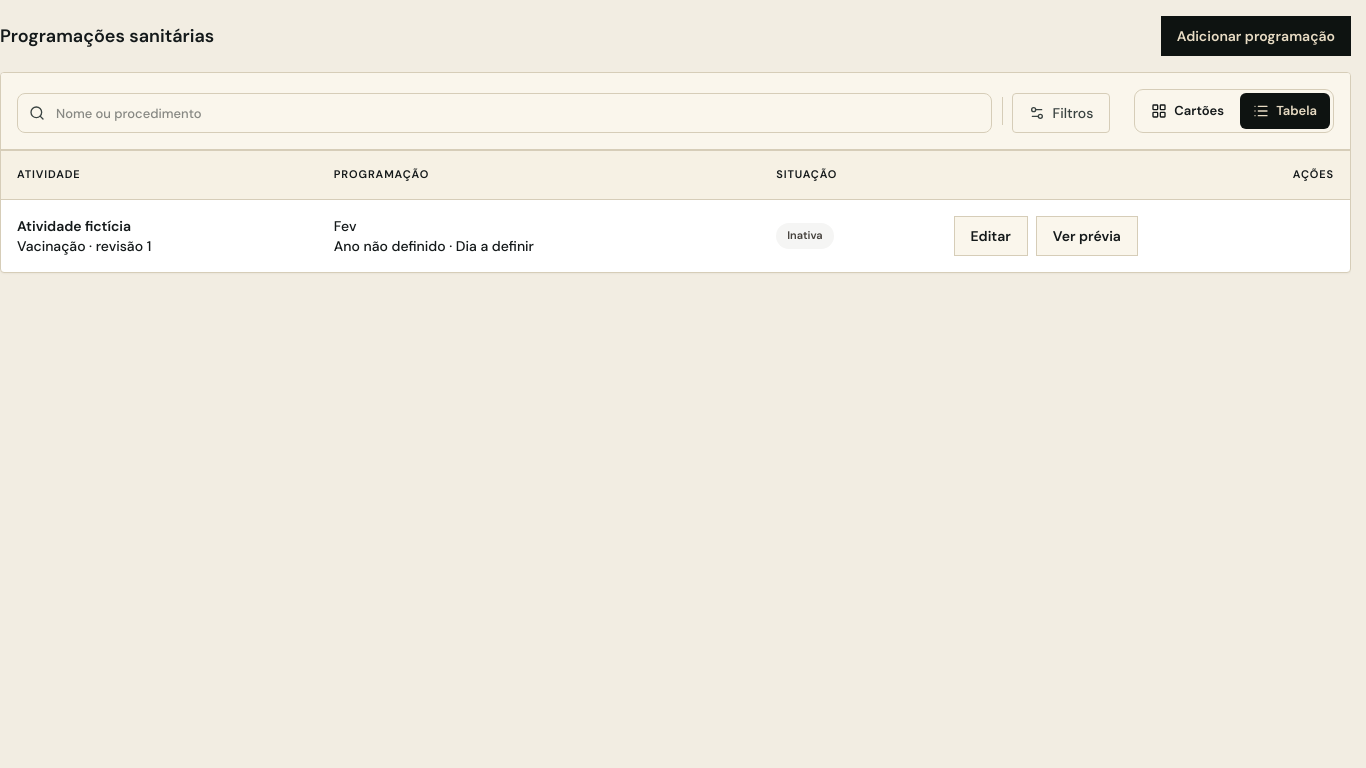
it: programação sanitária configurável › recusa ativação pendente e não inventa público de lote
Click the button "Ver prévia": (1087, 236) [1036,216,1138,256]
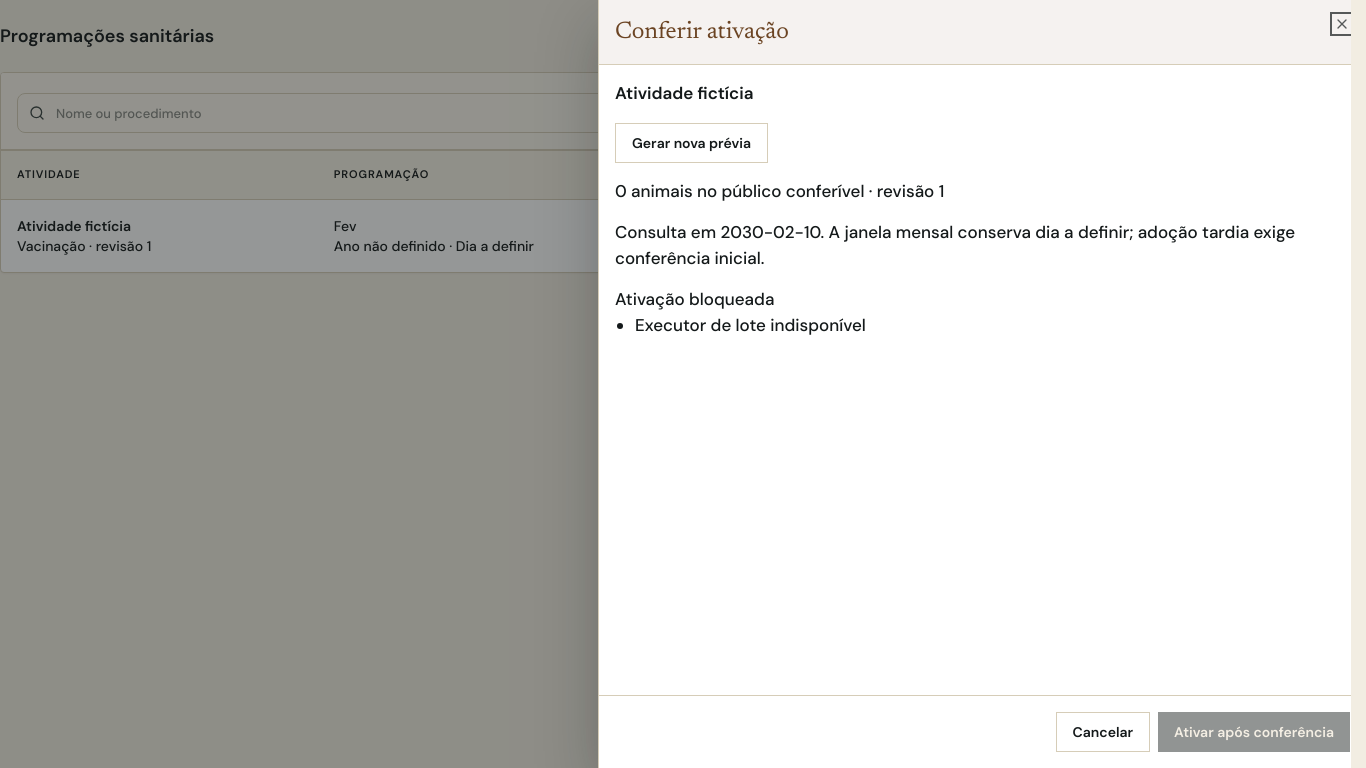
Now the list item "Executor de lote indisponível" is shown, box [635,314,866,336]
Now the button "Ativar após conferência" is disabled, box [1158,712,1350,752]
